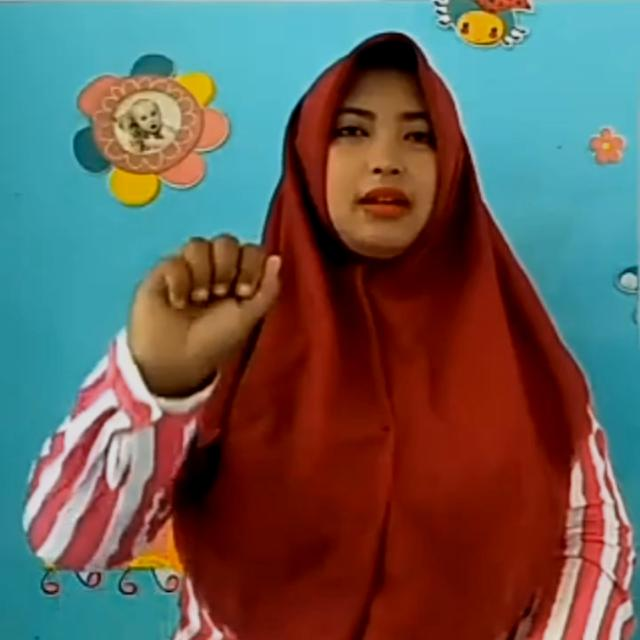A: (123, 228, 289, 379)
